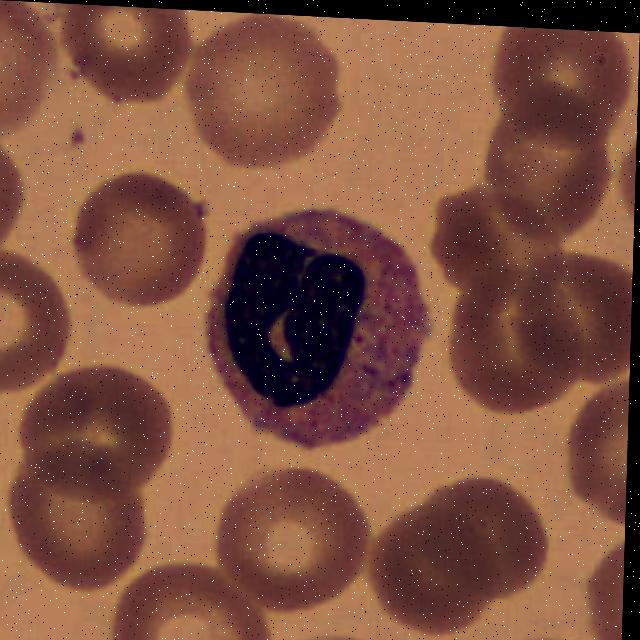neutrophil: (201, 186, 437, 459)
rbc: (168, 9, 356, 175), (14, 358, 189, 511), (477, 25, 638, 166), (0, 443, 151, 592), (485, 90, 624, 251), (415, 461, 561, 607), (448, 261, 581, 418), (70, 171, 216, 312), (210, 473, 358, 611), (364, 507, 497, 640), (518, 254, 633, 406), (438, 185, 573, 306), (542, 379, 630, 537), (57, 3, 188, 107), (111, 564, 276, 640), (0, 259, 76, 405), (0, 0, 58, 140), (0, 137, 47, 256), (576, 536, 625, 640), (616, 131, 637, 229), (494, 626, 598, 640), (278, 630, 381, 640)
